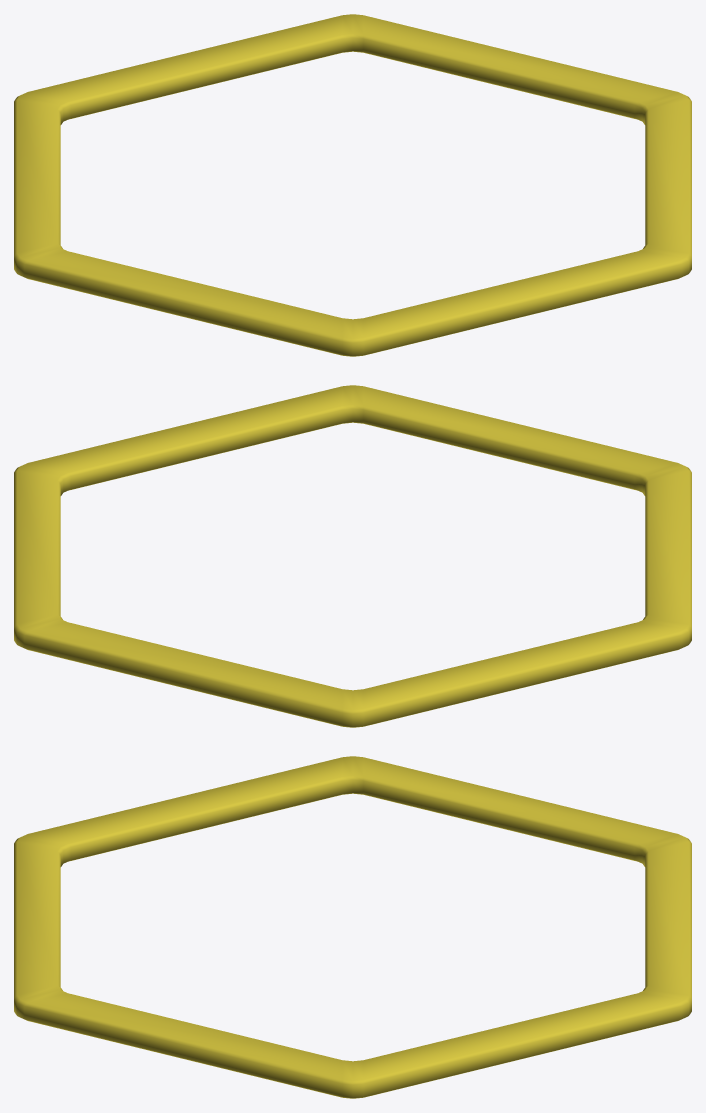
The model's file is elligible_tile_indicator.glb.
3 views of the same model, one above another, from view 1: azimuth 30°, elevation 25°; view 2: azimuth 150°, elevation 25°; view 3: azimuth 270°, elevation 25° (orthographic).
Visible parts, largest first — view 1: SelectableIndicator; view 2: SelectableIndicator; view 3: SelectableIndicator.
Part boxes in pixels (x1,y1,x2,y2): SelectableIndicator: [14, 14, 691, 356]; SelectableIndicator: [14, 385, 691, 727]; SelectableIndicator: [14, 756, 691, 1098].
Size of the model in its own units: 1.82 by 0.0469 by 1.59.
